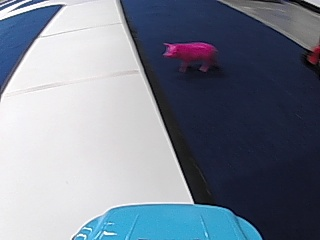pig: (160, 37, 216, 74)
